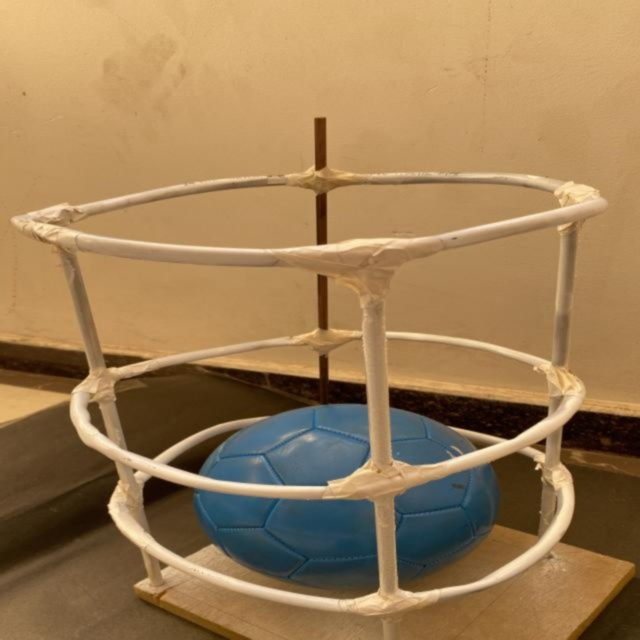blue_ball: (201, 406, 495, 582)
silo: (0, 135, 640, 640)
